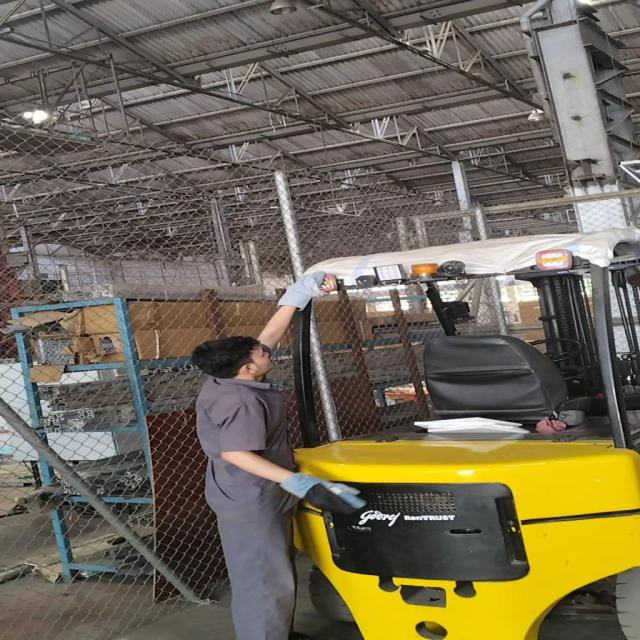Gloves-Detection: (271, 464, 368, 524), (274, 270, 326, 312)
